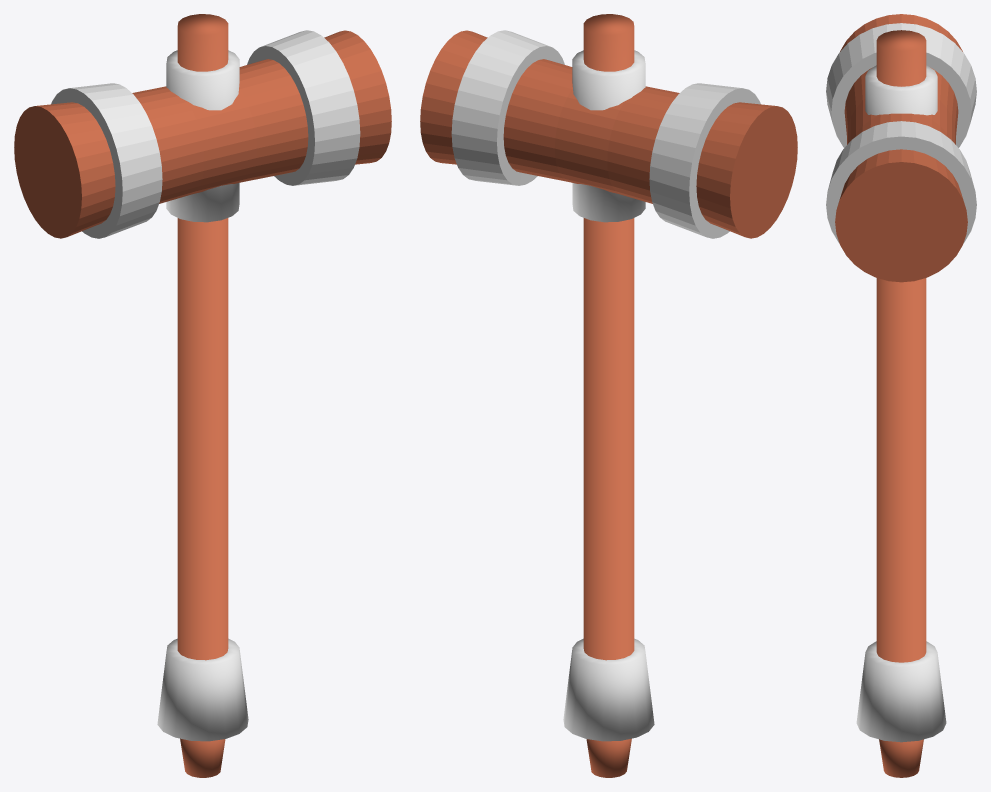
Rendered from Hammer.fbx.
The picture shows the model from 3 angles, left to right: view 1: azimuth 30°, elevation 25°; view 2: azimuth 150°, elevation 25°; view 3: azimuth 270°, elevation 25°; orthographic projection. The views are drawn at different scales.
Visible parts, largest first — view 1: Cylinder; view 2: Cylinder; view 3: Cylinder.
Boxes of the visible parts, x1=… form: Cylinder: x1=14, y1=14, x2=391, y2=777; Cylinder: x1=420, y1=14, x2=797, y2=777; Cylinder: x1=826, y1=14, x2=976, y2=777.
Size of the model in its own units: 527 by 1213 by 227.
